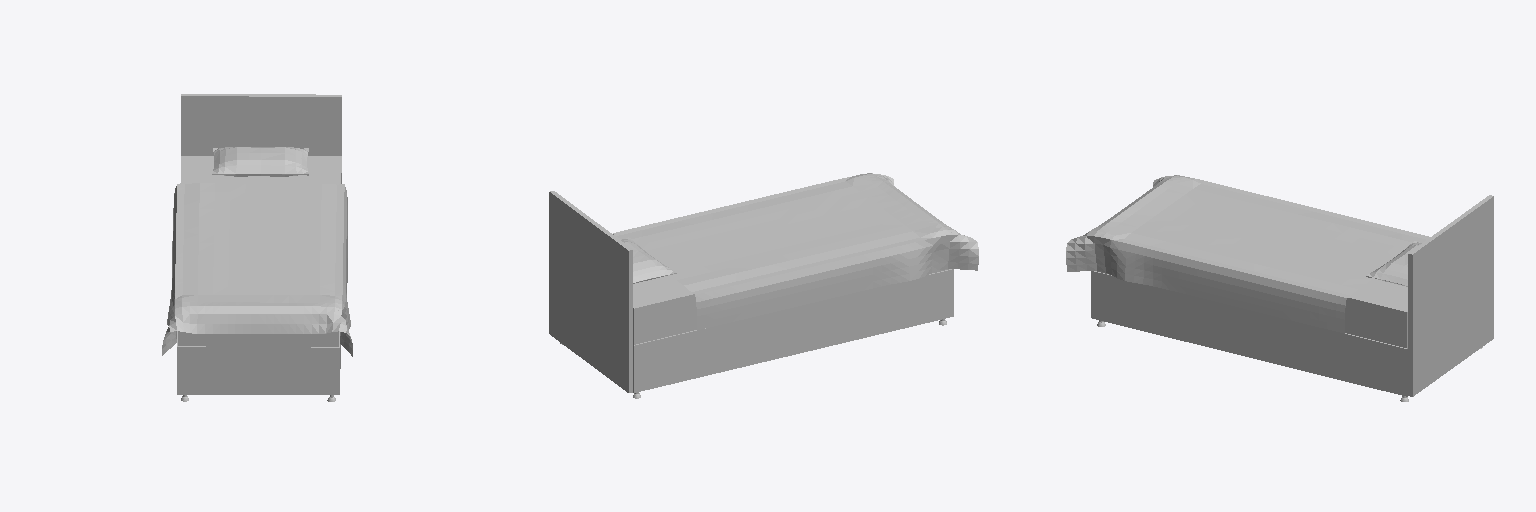
Rendered from BedModel.obj.
3 renders of one model, left to right at view 1: azimuth 30°, elevation 25°; view 2: azimuth 150°, elevation 25°; view 3: azimuth 270°, elevation 25°, orthographic.
Visible parts, largest first — view 1: Plane, Cube.002, Cube, Cube.001, Cube.003_Cube.005; view 2: Plane, Cube, Cube.002, Cube.001, Cube.003_Cube.005; view 3: Plane, Cube, Cube.002, Cube.001, Cube.003_Cube.005.
Part boxes in pixels (left/top/right/bottom): Plane: left=162, top=183, right=352, bottom=356; Cube.002: left=181, top=94, right=341, bottom=155; Cube: left=177, top=331, right=340, bottom=394; Cube.001: left=178, top=156, right=341, bottom=346; Cube.003_Cube.005: left=212, top=147, right=308, bottom=176; Plane: left=613, top=173, right=978, bottom=329; Cube: left=633, top=269, right=953, bottom=392; Cube.002: left=549, top=191, right=632, bottom=392; Cube.001: left=614, top=173, right=951, bottom=344; Cube.003_Cube.005: left=621, top=237, right=676, bottom=283; Plane: left=1066, top=175, right=1429, bottom=333; Cube: left=1091, top=271, right=1407, bottom=396; Cube.002: left=1408, top=195, right=1493, bottom=396; Cube.001: left=1097, top=271, right=1407, bottom=348; Cube.003_Cube.005: left=1366, top=241, right=1421, bottom=286.
Bounding box in the file's own units: 4.27 × 2.03 × 5.2.